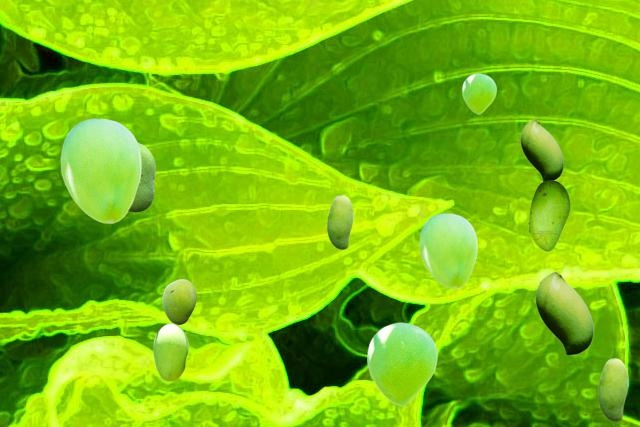green_mango: (60, 118, 140, 222), (367, 322, 436, 405), (535, 271, 592, 354), (419, 213, 476, 287), (528, 180, 569, 250), (520, 119, 562, 180), (153, 323, 187, 380), (598, 358, 627, 420), (129, 142, 154, 211), (162, 279, 195, 323), (327, 195, 352, 248), (462, 73, 495, 113)
